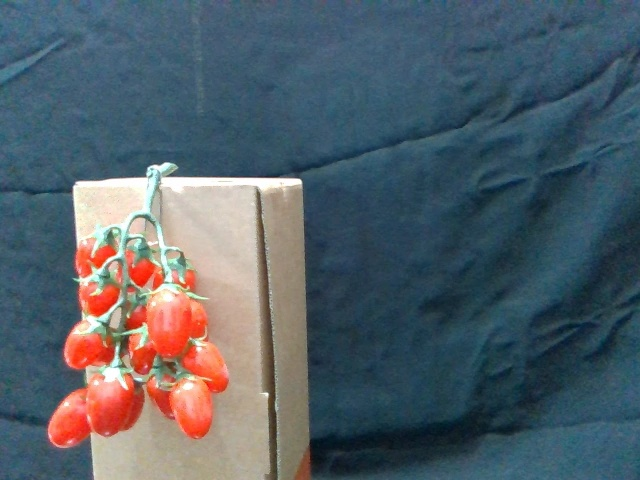tomato: (147, 279, 194, 356), (87, 367, 133, 439), (182, 336, 231, 395), (64, 316, 115, 369), (48, 389, 91, 449), (174, 373, 212, 440), (73, 232, 121, 278), (75, 270, 121, 318)
